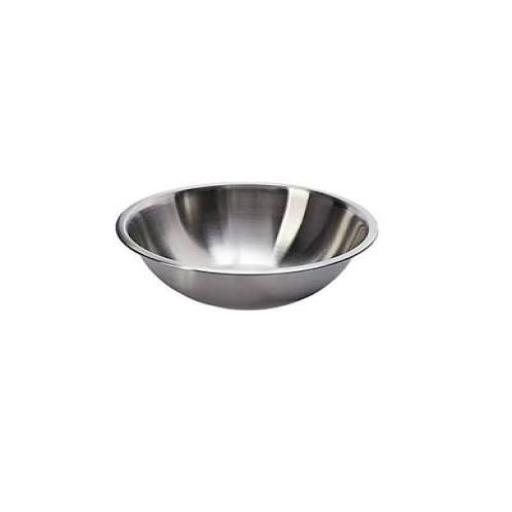Bowl: (116, 183, 377, 309)
